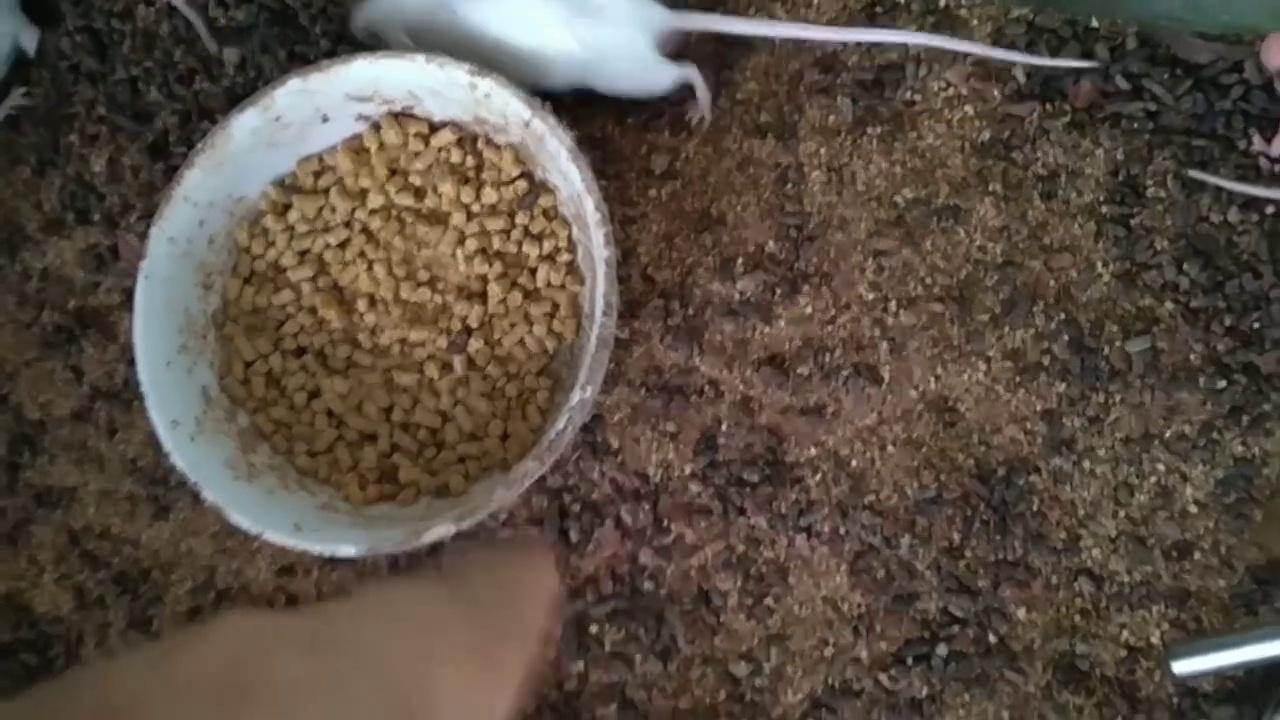rat: (352, 0, 1093, 131)
